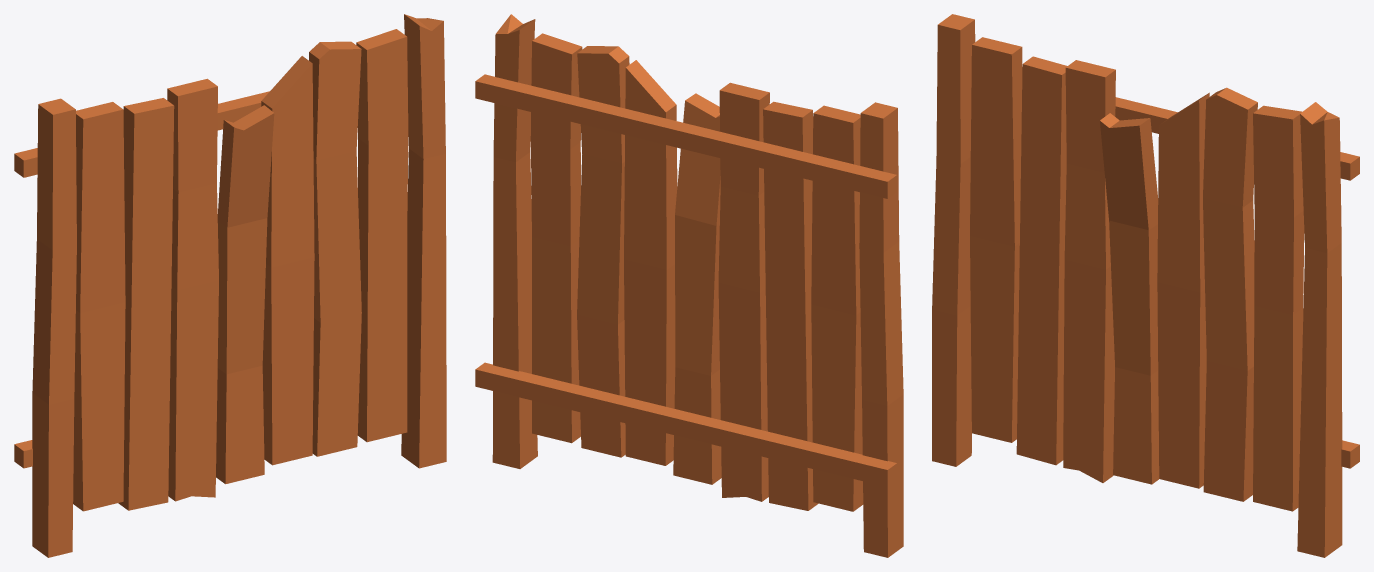
Rendered from Wood Fence 3.glb.
3 renders of one model, left to right at view 1: azimuth 30°, elevation 25°; view 2: azimuth 150°, elevation 25°; view 3: azimuth 330°, elevation 25°, orthographic.
Visible parts, largest first — view 1: WoodFence3; view 2: WoodFence3; view 3: WoodFence3.
Boxes of the visible parts, left/top/right/bottom form: WoodFence3: left=14, top=14, right=446, bottom=557; WoodFence3: left=475, top=14, right=903, bottom=557; WoodFence3: left=932, top=14, right=1359, bottom=557.
Bounding box in the file's own units: 2 × 2.03 × 0.2779.
